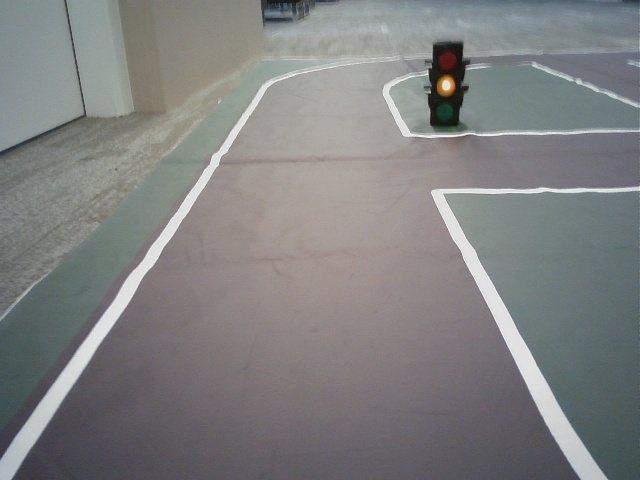yellow: (430, 45, 458, 123)
